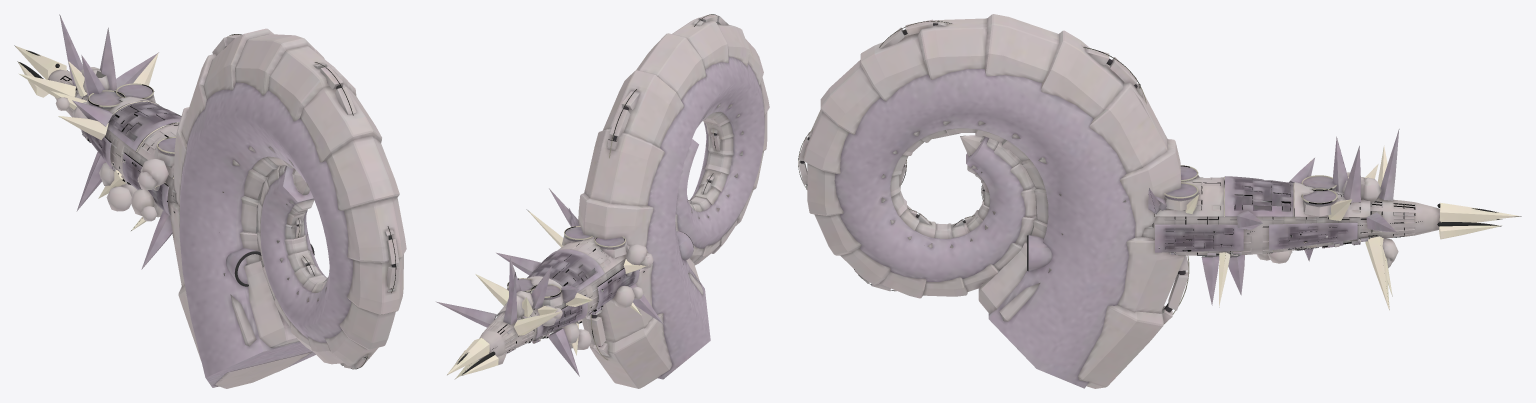
The model's file is last_rememberer_hero.glb.
The picture shows the model from 3 angles, left to right: view 1: azimuth 30°, elevation 25°; view 2: azimuth 150°, elevation 25°; view 3: azimuth 270°, elevation 25°; orthographic projection. The views are drawn at different scales.
Visible parts, largest first — view 1: HullBaked; view 2: HullBaked; view 3: HullBaked.
Boxes of the visible parts, left/top/right/bottom form: HullBaked: left=14, top=14, right=406, bottom=388; HullBaked: left=436, top=14, right=769, bottom=388; HullBaked: left=798, top=14, right=1521, bottom=388.
Size of the model in its own units: 256 by 634 by 1143.
Materials: 1 (1 with a texture image).
